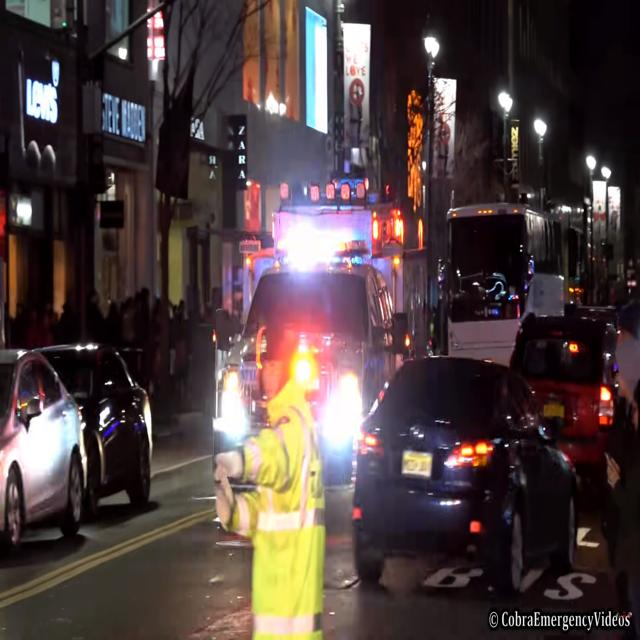emergency-vehicles: (208, 166, 450, 526)
